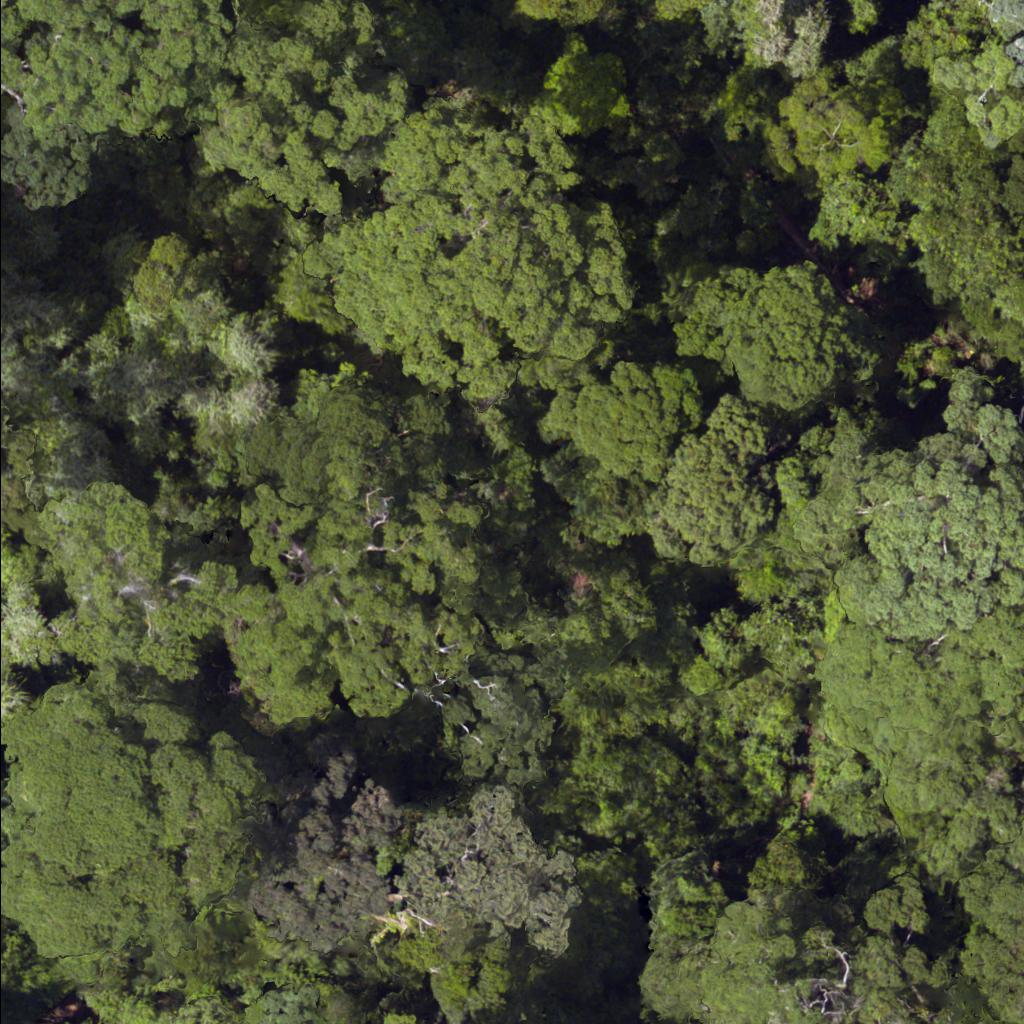crown: (285, 97, 625, 405), (0, 683, 254, 951), (813, 600, 1023, 876), (224, 493, 477, 719), (486, 570, 697, 831), (801, 405, 1023, 633), (646, 846, 925, 1023), (207, 5, 406, 218), (31, 482, 215, 695), (675, 264, 880, 415), (0, 0, 215, 127), (399, 803, 574, 957), (256, 748, 394, 943), (245, 390, 447, 506), (650, 397, 770, 559), (0, 302, 85, 517), (544, 365, 699, 478), (949, 808, 1023, 1023), (766, 75, 892, 188), (444, 655, 550, 780), (0, 528, 49, 741), (547, 447, 647, 542), (544, 32, 631, 133), (807, 175, 909, 249), (7, 133, 89, 199), (131, 232, 188, 314), (1002, 154, 1023, 213), (1022, 231, 1023, 239)
